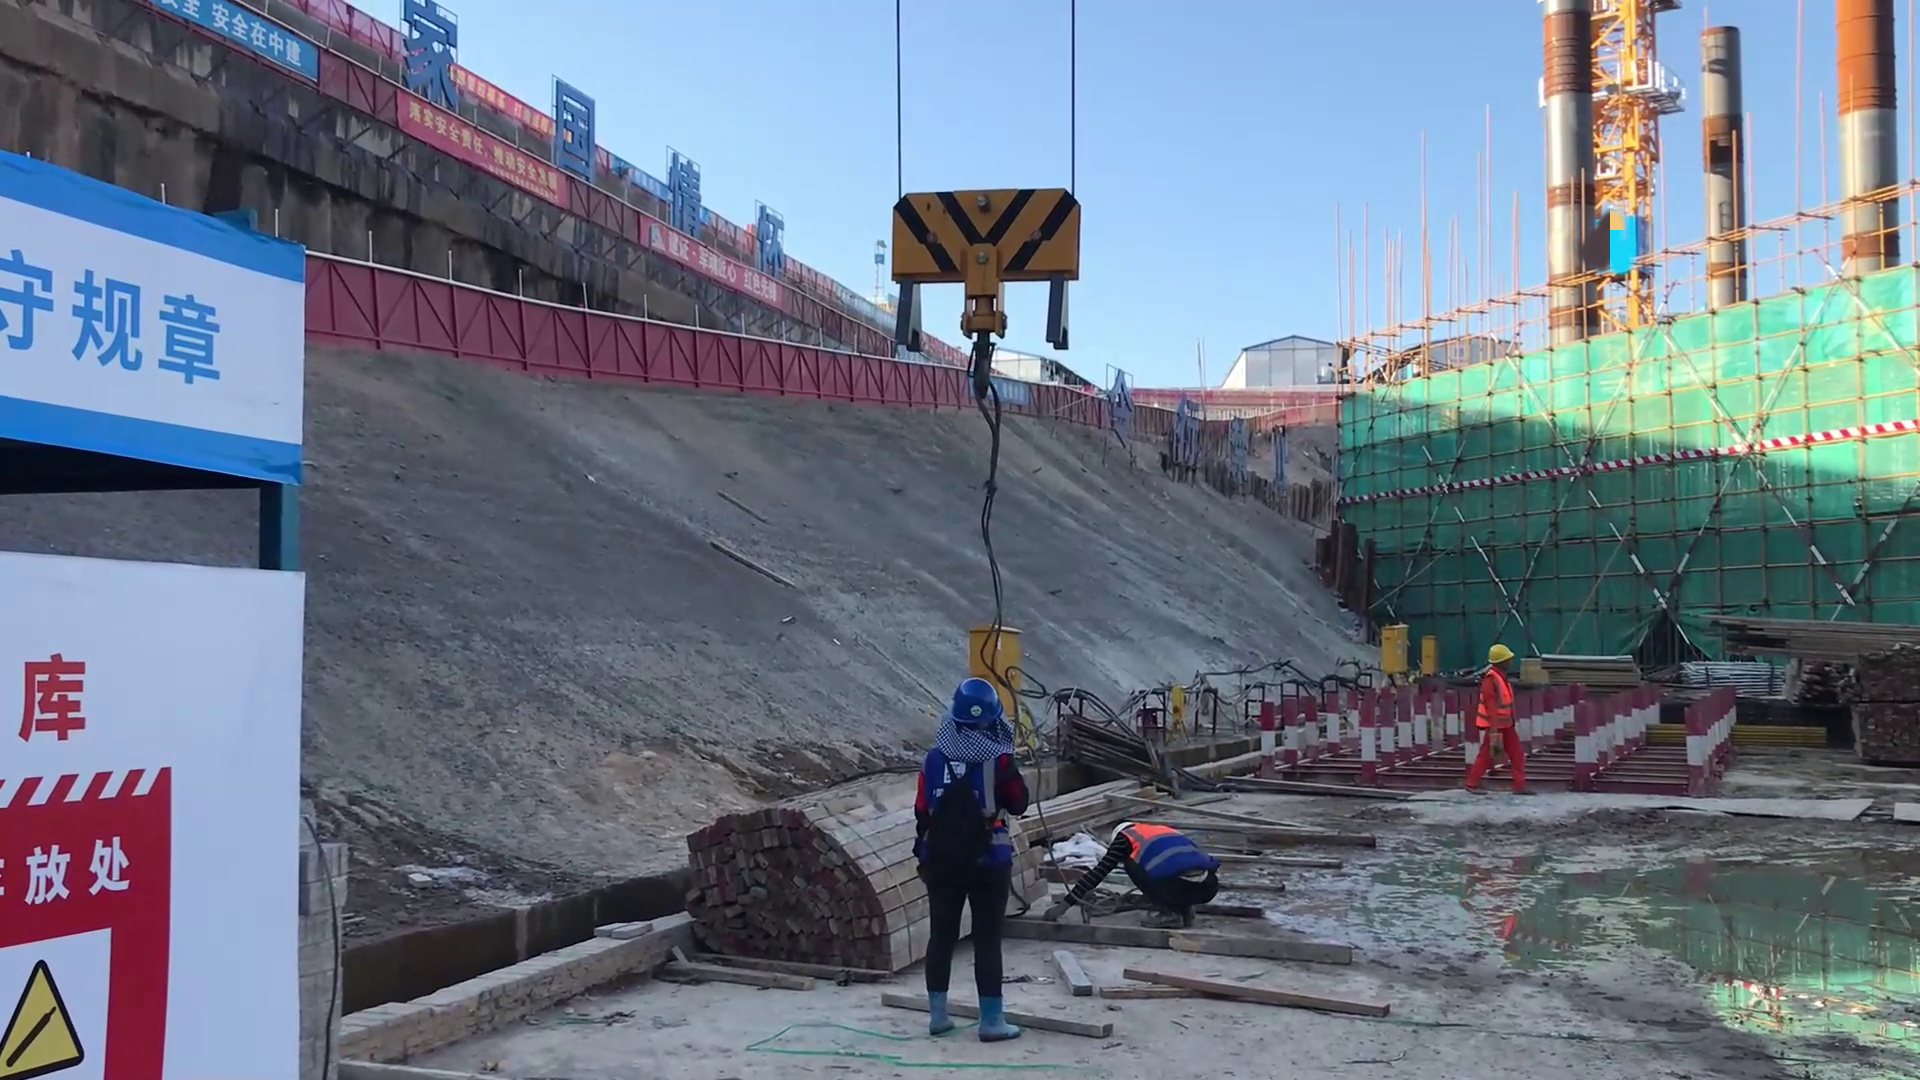ebox: (963, 618, 1041, 726), (1382, 627, 1408, 671), (1417, 631, 1443, 674)
fence: (307, 259, 863, 404)
helmet: (926, 683, 1001, 741), (1480, 638, 1516, 680)
hook: (896, 178, 1082, 353)
person: (909, 679, 1026, 1037), (1034, 805, 1220, 936), (1471, 640, 1531, 805)
slogan: (1, 248, 238, 452), (2, 889, 166, 1080), (395, 100, 581, 235), (151, 1, 292, 87)
vest: (1474, 667, 1513, 726)
wood: (669, 745, 912, 997), (1703, 587, 1920, 677)
